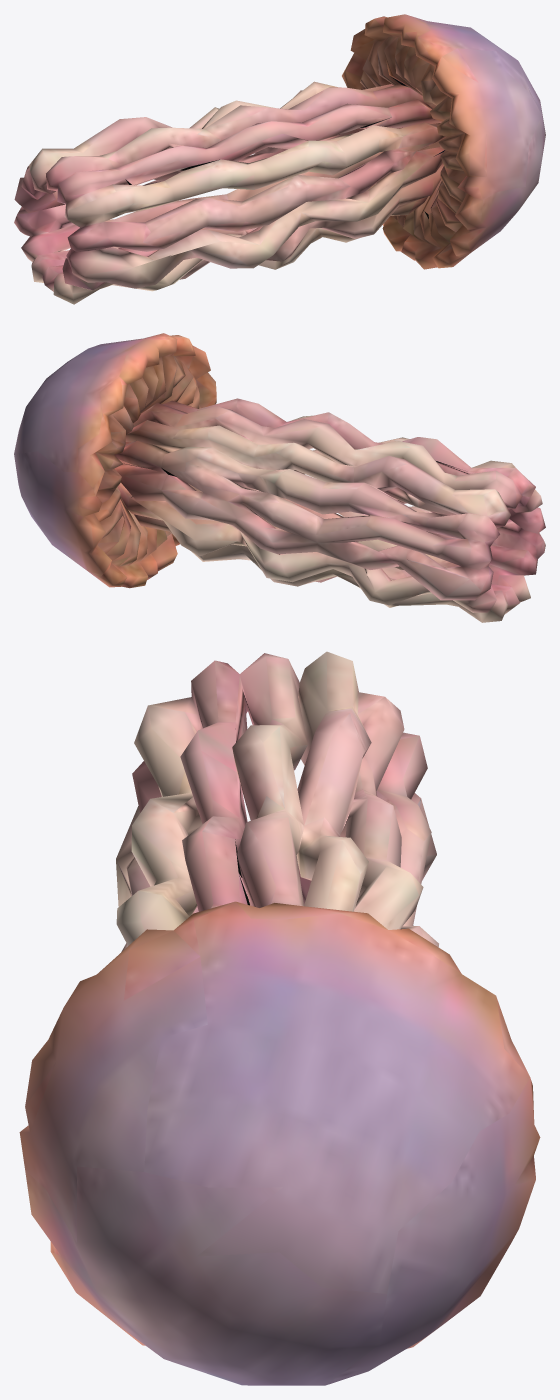
Rendered from jelly.glb.
The picture shows the model from 3 angles, top to bottom: view 1: azimuth 30°, elevation 25°; view 2: azimuth 150°, elevation 25°; view 3: azimuth 270°, elevation 25°; orthographic projection. The views are drawn at different scales.
Parts seen in each view (by area): view 1: node_0.001; view 2: node_0.001; view 3: node_0.001.
Boxes of the visible parts, <box> form: node_0.001: <box>14,14,545,304</box>; node_0.001: <box>14,333,545,622</box>; node_0.001: <box>19,651,540,1385</box>.
Bounding box in the file's own units: 2.06 × 0.9415 × 0.9489.
Materials: 1 (1 with a texture image).
